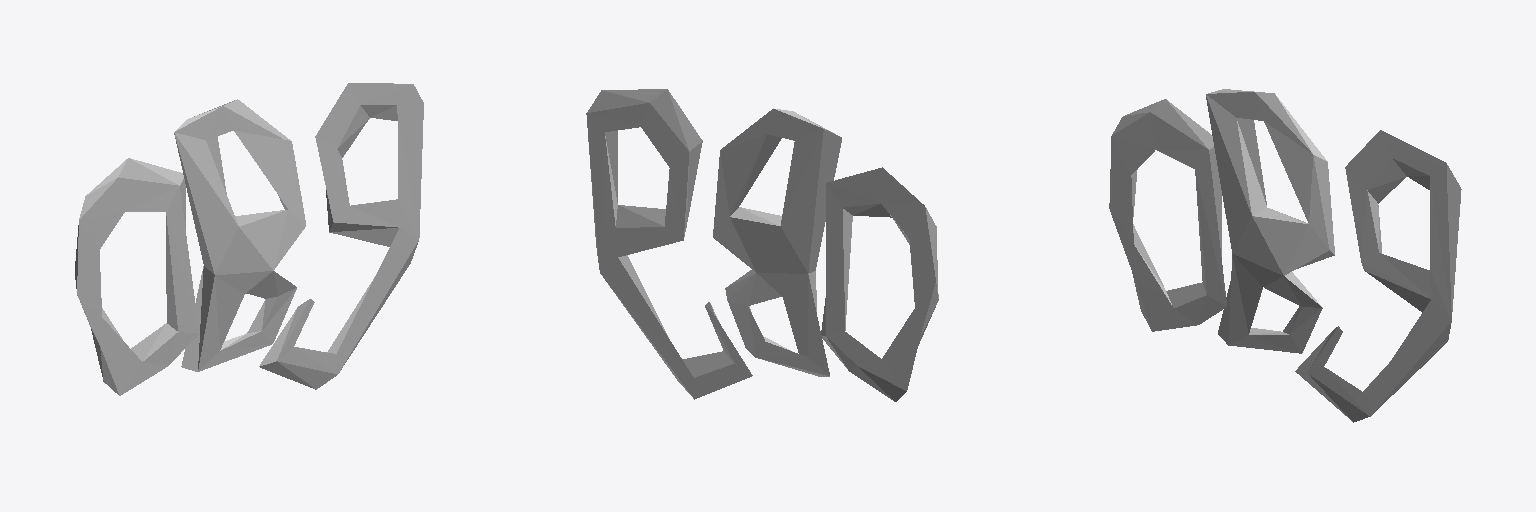
The model's file is mesh_for_mmap.obj.
3 views of the same model, side by side, from view 1: azimuth 30°, elevation 25°; view 2: azimuth 150°, elevation 25°; view 3: azimuth 330°, elevation 25° (orthographic).
Visible parts, largest first — view 1: Plane; view 2: Plane; view 3: Plane.
Boxes of the visible parts, x1,y1,x2,y2 form: Plane: [75, 83, 423, 395]; Plane: [586, 89, 938, 401]; Plane: [1109, 89, 1461, 422].
Bounding box in the file's own units: 2.88 × 2.44 × 0.1933.